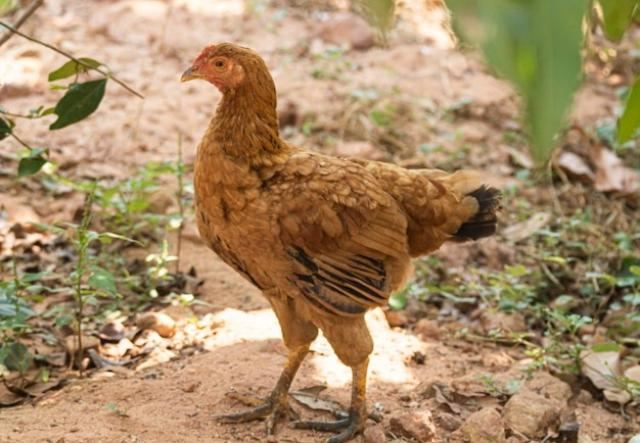Chicken: (178, 39, 498, 443)
